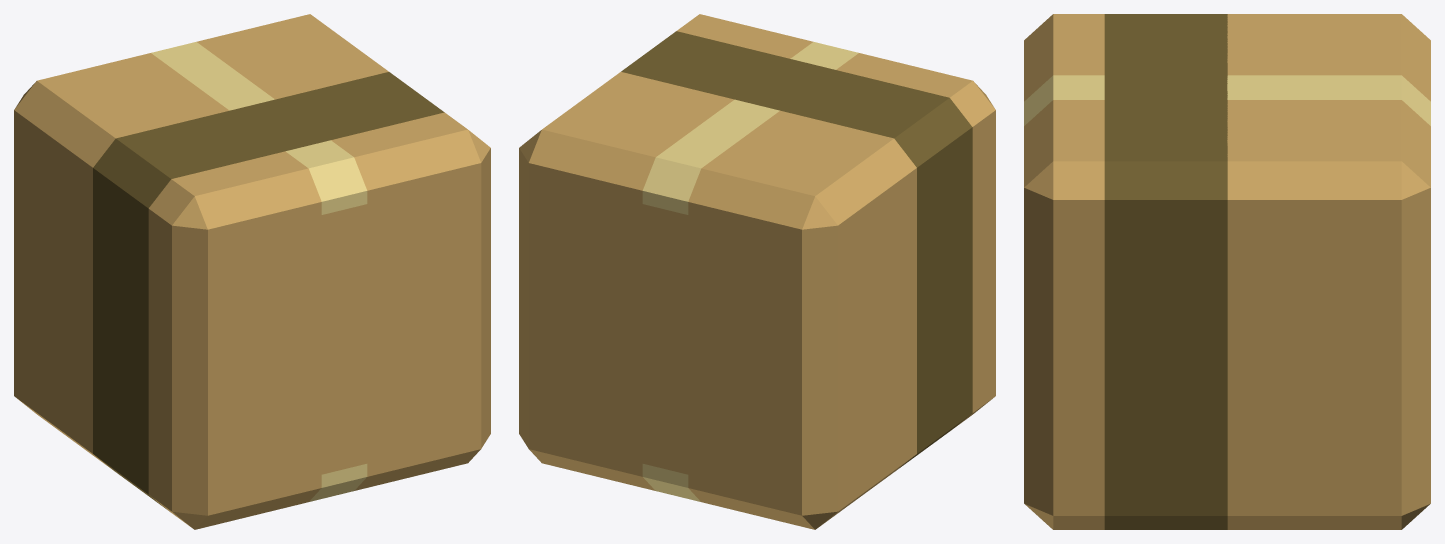
3 renders of one model, left to right at view 1: azimuth 30°, elevation 25°; view 2: azimuth 150°, elevation 25°; view 3: azimuth 270°, elevation 25°, orthographic. The views are drawn at different scales.
Parts seen in each view (by area): view 1: Cube.002; view 2: Cube.002; view 3: Cube.002.
Part boxes in pixels (<box>): Cube.002: <box>14,14,490,529</box>; Cube.002: <box>519,14,995,529</box>; Cube.002: <box>1024,14,1430,529</box>.
Size of the model in its own units: 2 by 2 by 2.
